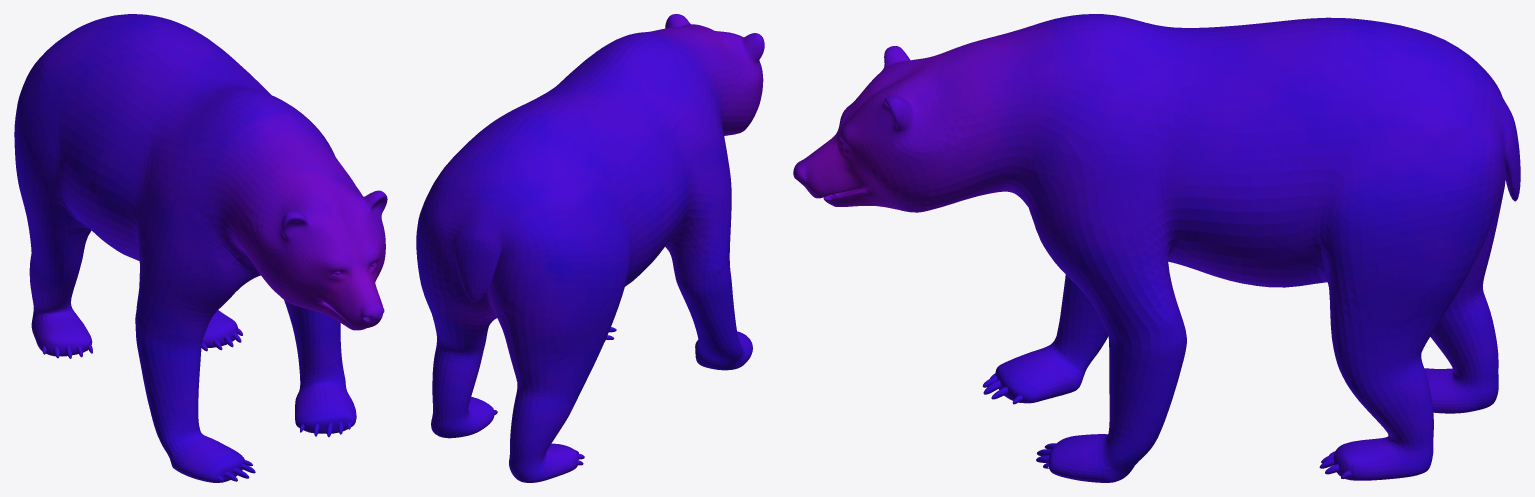
Rendered from pred.glb.
3 renders of one model, left to right at view 1: azimuth 30°, elevation 25°; view 2: azimuth 150°, elevation 25°; view 3: azimuth 270°, elevation 25°, orthographic. The views are drawn at different scales.
Bounding box in the file's own units: 0.2529 × 0.3876 × 0.6222.
